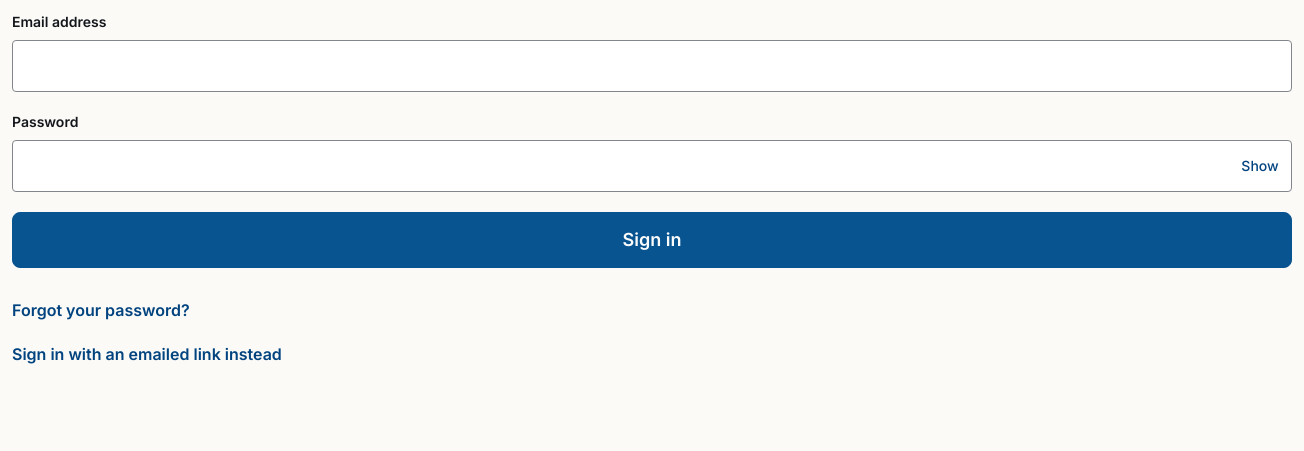
Test: SignInPanel › puts a malformed address's error on the email field
Type "a@b" into the field labelled "Email address" at (652, 66), box [12, 40, 1292, 92]
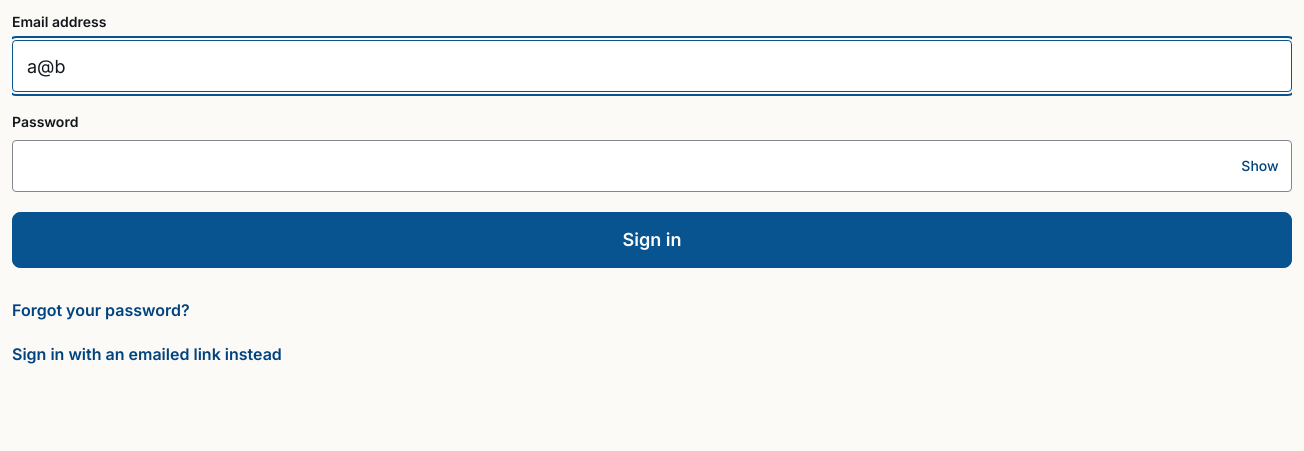
Type "correct horse" into the password field labelled "Password" at (652, 166), box [12, 140, 1292, 192]
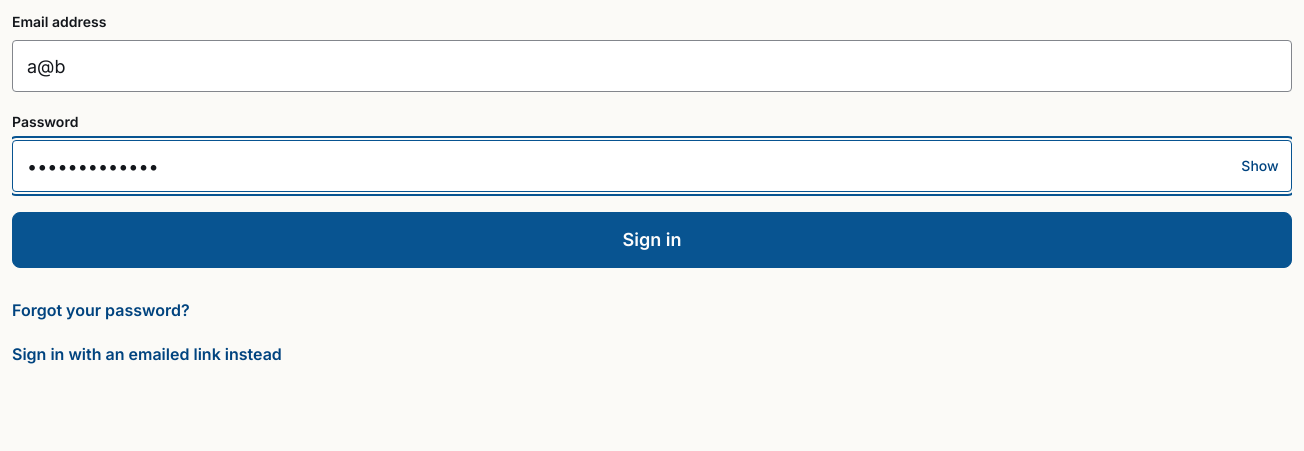
Click the button "Sign in" at (652, 240), box [12, 212, 1292, 268]
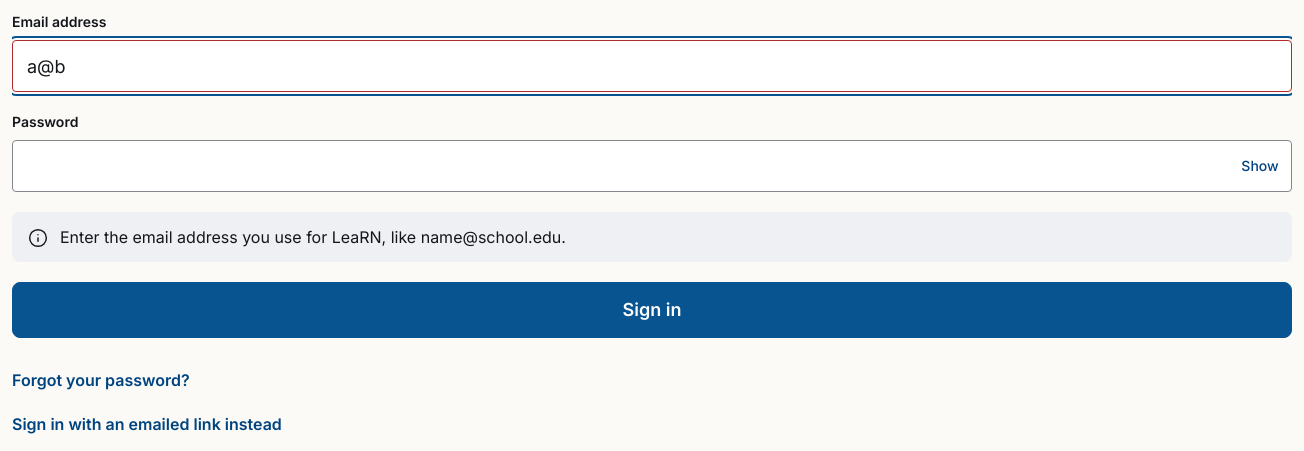
Check: the message "Enter the email address you use for LeaRN, like name@school.edu." is shown, box [12, 212, 1292, 262]
